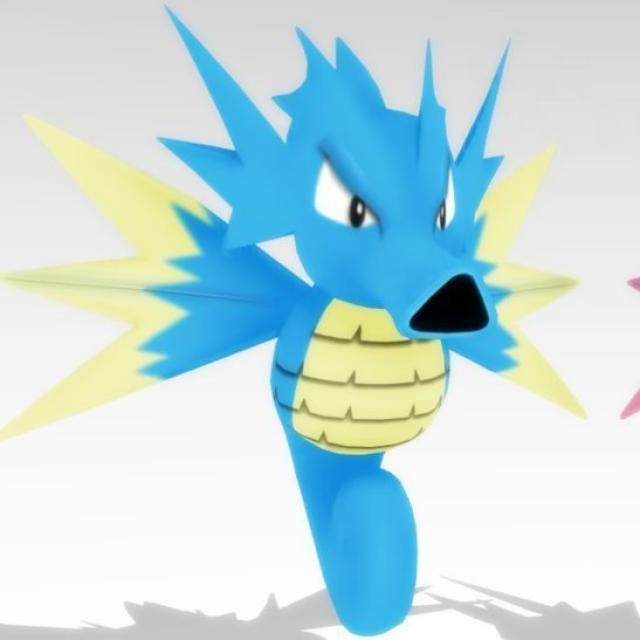Seadra: (119, 39, 552, 539)
